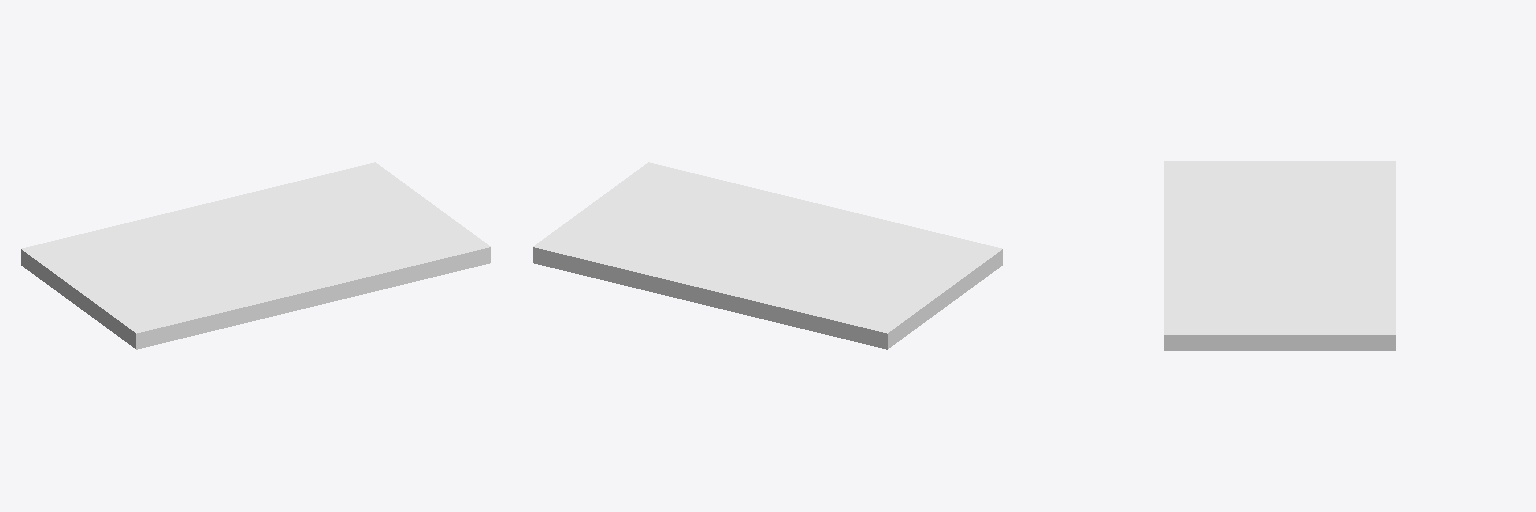
File: wacom.obj
3 renders of one model, left to right at view 1: azimuth 30°, elevation 25°; view 2: azimuth 150°, elevation 25°; view 3: azimuth 270°, elevation 25°, orthographic.
Bounding box in the file's own units: 1.15 × 0.05 × 0.65.